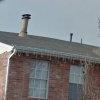Chimney: (15, 6, 37, 47)
